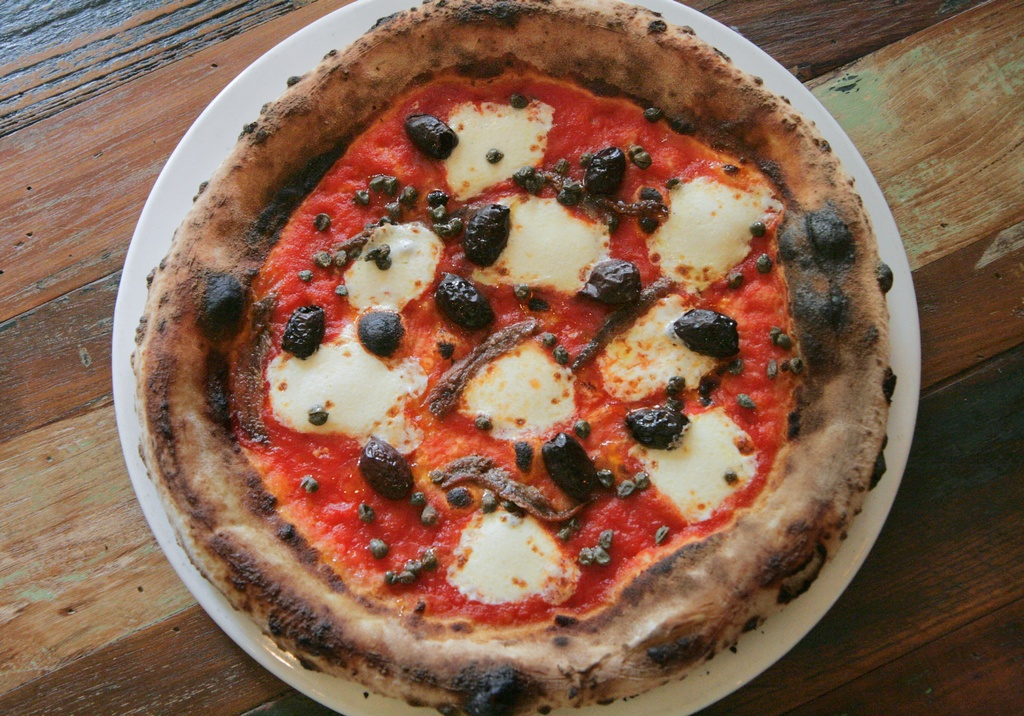Pizza: (134, 0, 915, 715)
